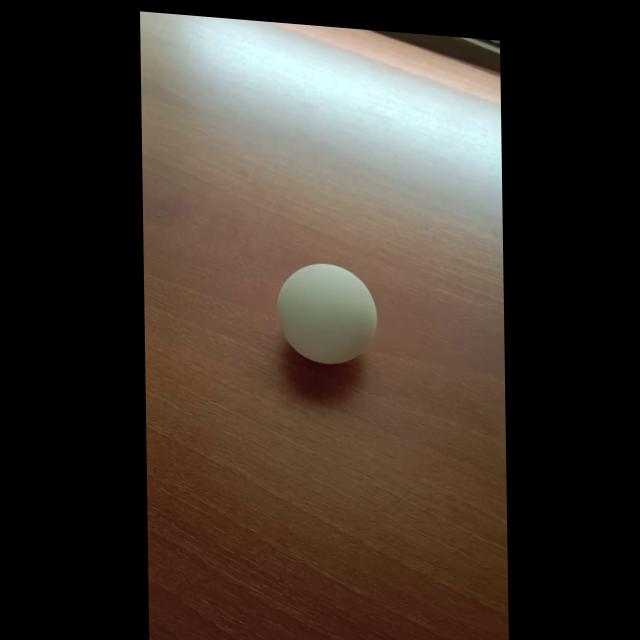white ball: (275, 259, 378, 370)
